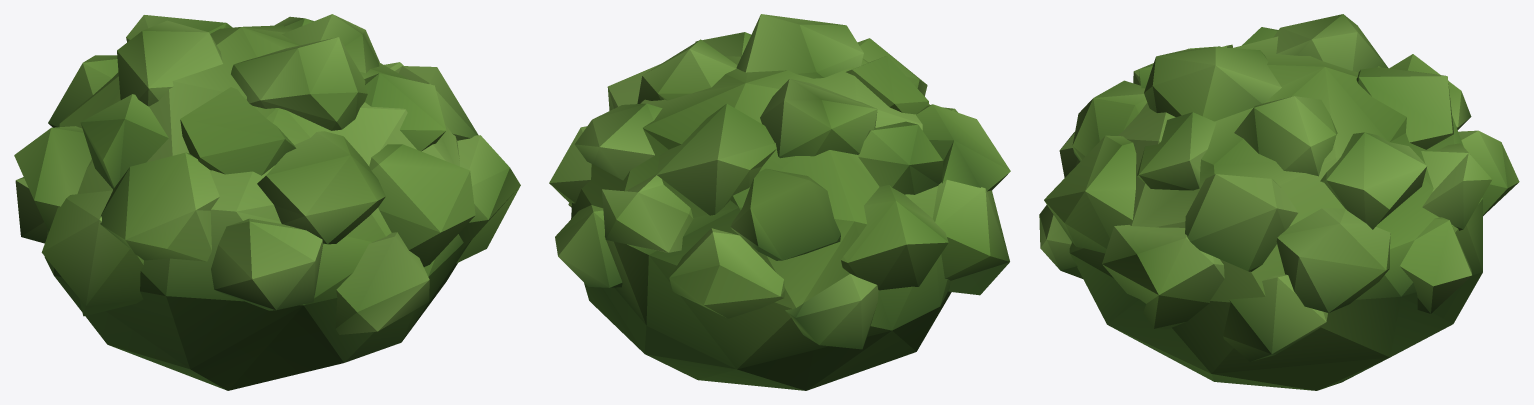
Rendered from zen_shrub-lod1.glb.
3 renders of one model, left to right at view 1: azimuth 30°, elevation 25°; view 2: azimuth 150°, elevation 25°; view 3: azimuth 270°, elevation 25°, orthographic. The views are drawn at different scales.
Visible parts, largest first — view 1: zen_shrub; view 2: zen_shrub; view 3: zen_shrub.
Part boxes in pixels (bbox=[...]): zen_shrub: bbox=[14, 14, 520, 390]; zen_shrub: bbox=[549, 14, 1010, 390]; zen_shrub: bbox=[1039, 14, 1519, 390].
Bounding box in the file's own units: 2.15 × 1.49 × 2.16.
